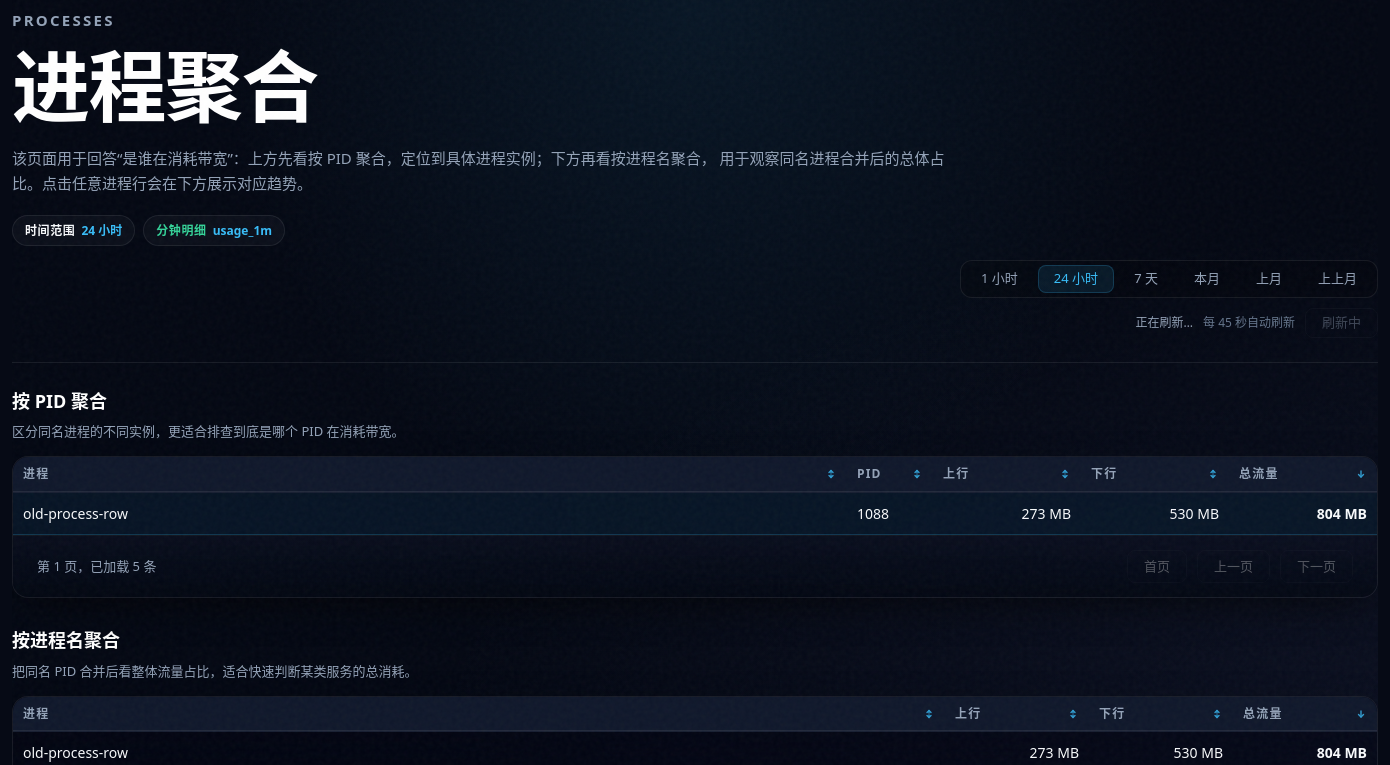
Test: traffic-go web ui › does not leave previous process rows actionable during a range change
Expected: the text "old-process-row" next to "1088" is shown, [23,504,128,523]
Click the tab "7 天".
click(1146, 279)  # box [1118,266,1174,293]
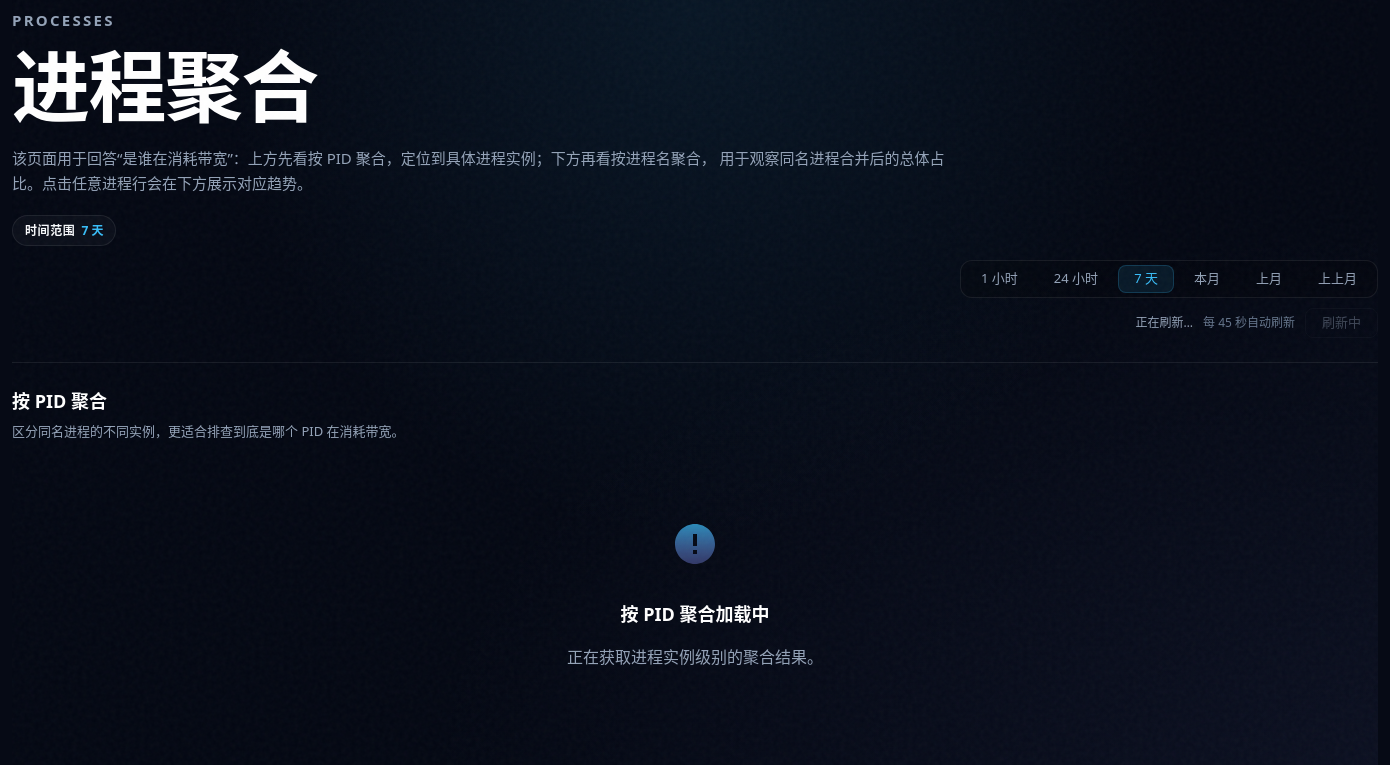
Result: the heading "按 PID 聚合加载中" is shown at [620,600,770,629]
Result: the text "old-process-row" is gone
Result: the row "查看趋势" is gone
